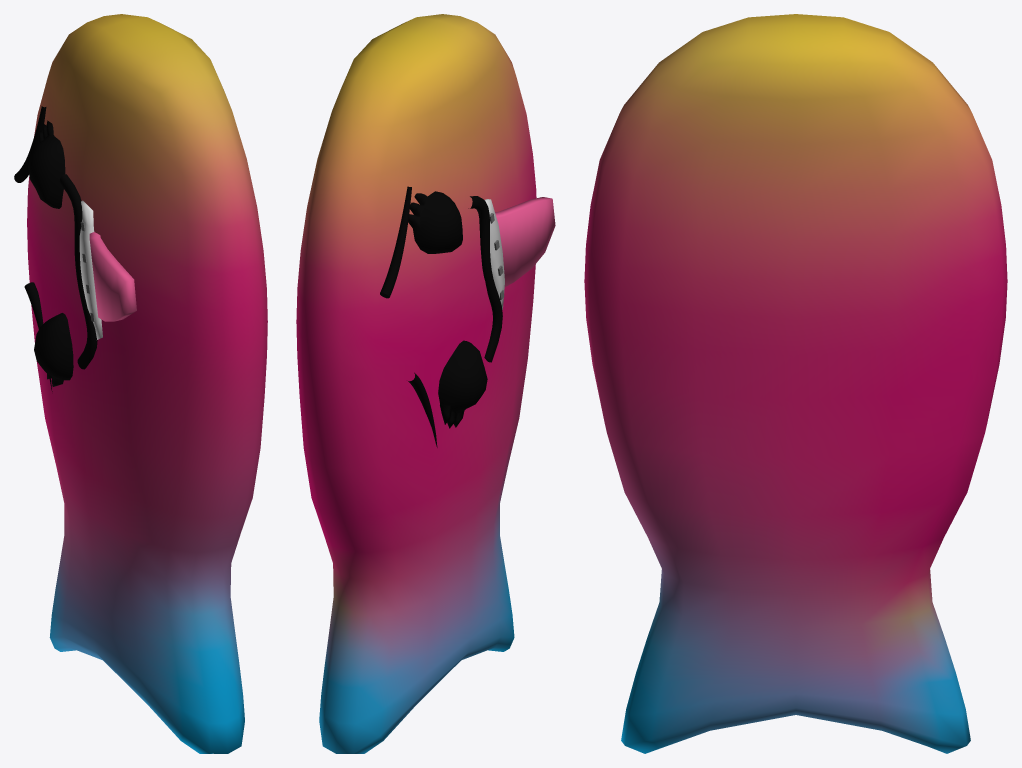
File: DELPHINO.glb
The picture shows the model from 3 angles, left to right: view 1: azimuth 30°, elevation 25°; view 2: azimuth 150°, elevation 25°; view 3: azimuth 270°, elevation 25°; orthographic projection. The views are drawn at different scales.
Parts seen in each view (by area): view 1: DELPHINO; view 2: DELPHINO; view 3: DELPHINO.
Part boxes in pixels (bbox=[...]): DELPHINO: bbox=[14, 14, 267, 753]; DELPHINO: bbox=[296, 14, 555, 753]; DELPHINO: bbox=[584, 14, 1007, 753].
Size of the model in its own units: 0.1289 by 0.5252 by 0.2785.
